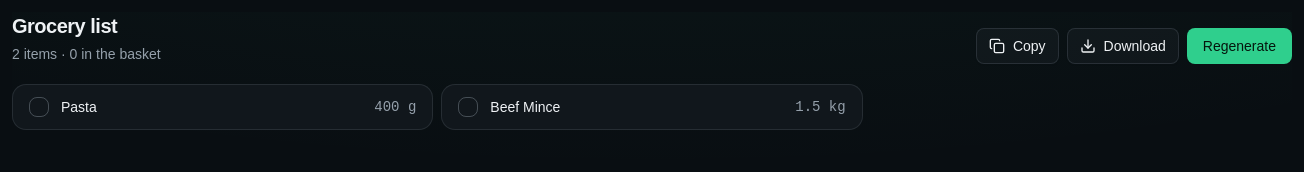
Test case: the list › counts what is in the basket
The width and height of the screenshot is (1304, 172).
What coordinates should you click on to do the following:
click the button "Pasta 400 g"
I would click on:
 (79, 107)
Its box is [12,84,433,130].
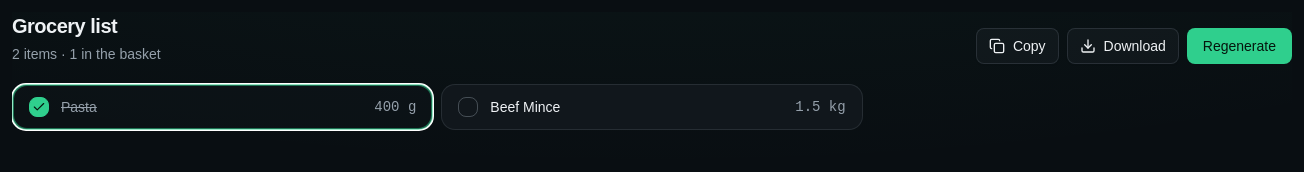
Expected: the text "2 items · 1 in the basket" is shown, [12,44,161,64]
